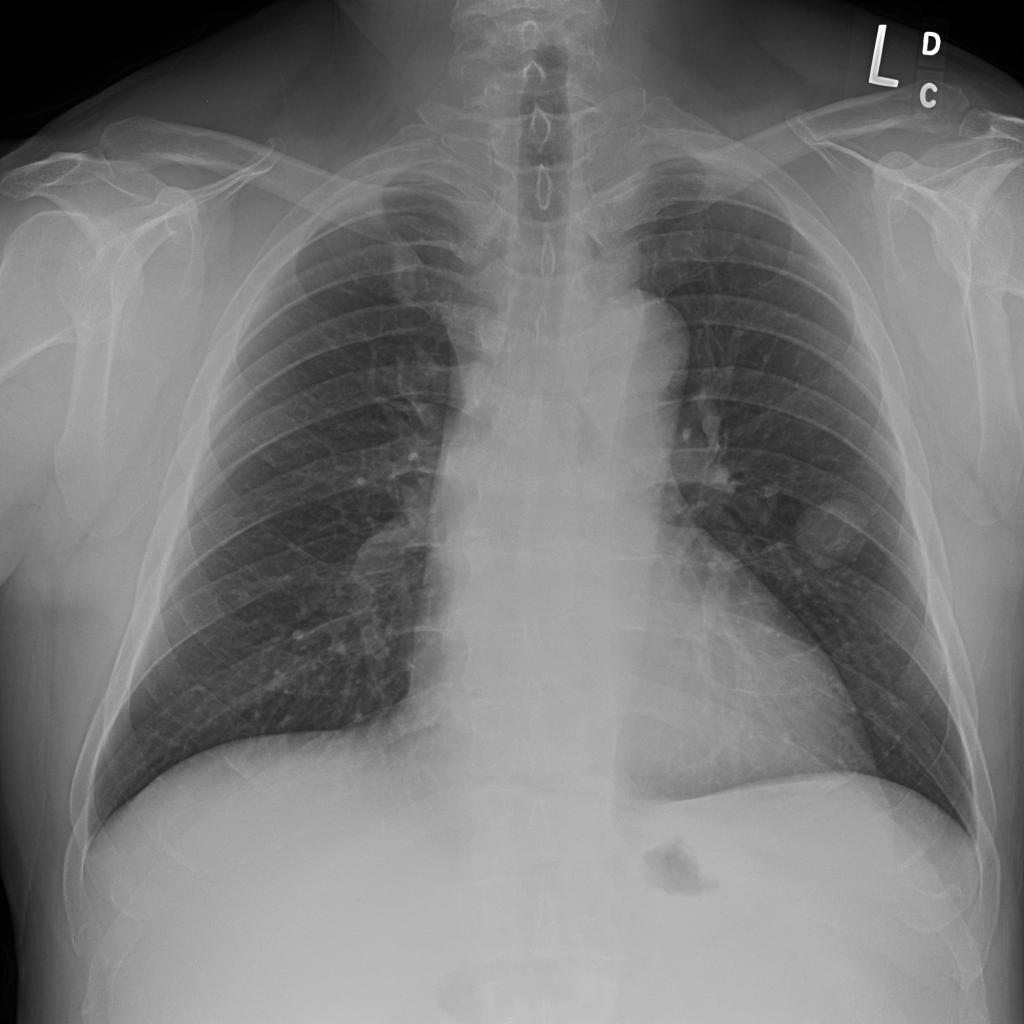Nodule: (403, 253, 440, 290), (201, 138, 212, 150)
